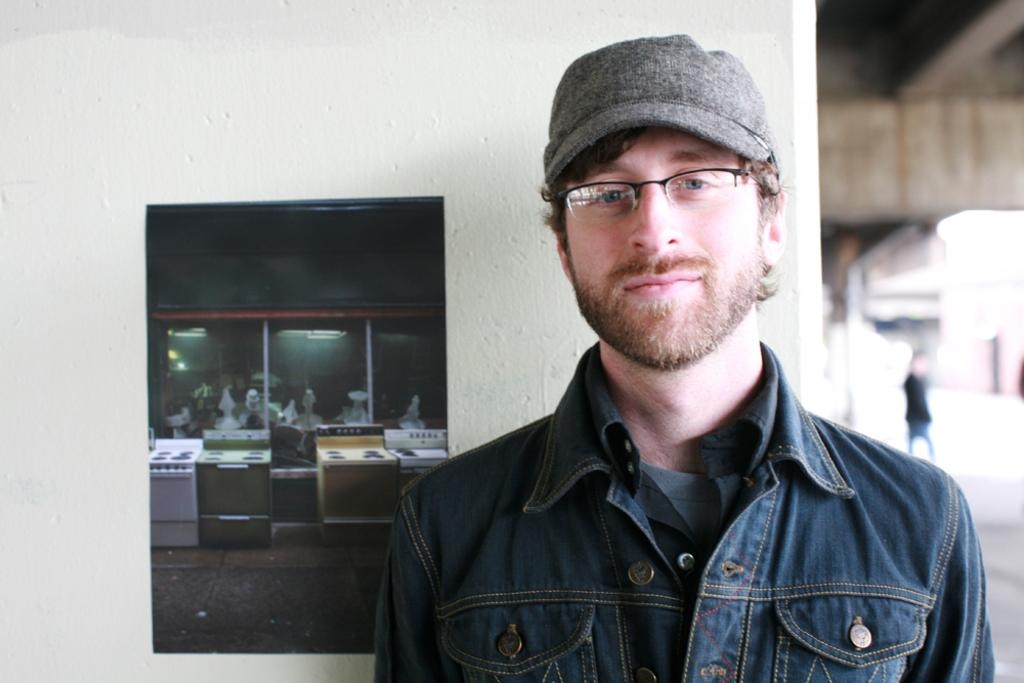Hat: (538, 33, 774, 191)
